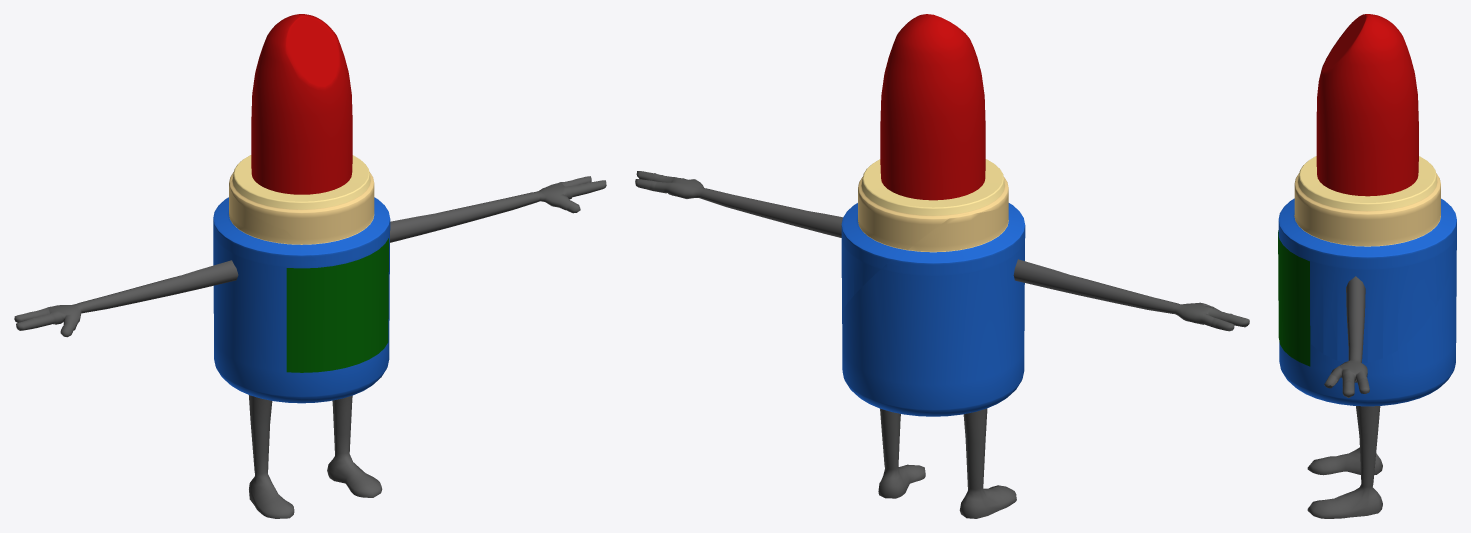
The model's file is kou-cut.fbx.
The picture shows the model from 3 angles, left to right: view 1: azimuth 30°, elevation 25°; view 2: azimuth 150°, elevation 25°; view 3: azimuth 270°, elevation 25°; orthographic projection. The views are drawn at different scales.
Visible parts, largest first — view 1: 对象001, 对象003, polySurface11_shard3, ds, 对象002; view 2: 对象003, 对象001, polySurface11_shard3, 对象002; view 3: 对象002, 对象003, 对象001, polySurface11_shard3, ds.
Boxes of the visible parts, x1,y1,x2,y2 form: 对象001: (230, 14, 351, 229); 对象003: (213, 173, 389, 403); polySurface11_shard3: (14, 176, 606, 518); ds: (286, 238, 388, 372); 对象002: (233, 104, 390, 319); 对象003: (842, 202, 1025, 416); 对象001: (881, 14, 1008, 214); polySurface11_shard3: (635, 171, 1249, 518); 对象002: (841, 95, 956, 313); 对象002: (1278, 111, 1456, 362); 对象003: (1279, 198, 1456, 406); 对象001: (1302, 14, 1418, 166); polySurface11_shard3: (1307, 276, 1382, 518); ds: (1278, 230, 1310, 366).
Bounding box in the file's own units: 50.56 × 38.6 × 13.17.
